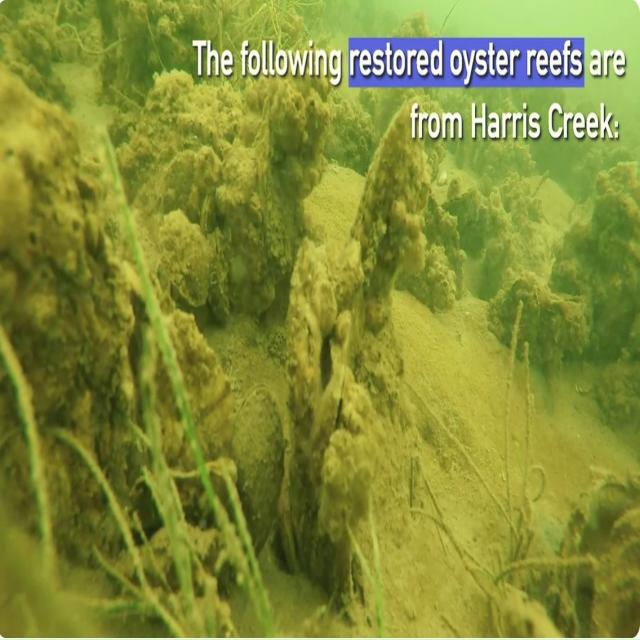Oyster- Indeterminate: (0, 87, 130, 521), (352, 94, 433, 339), (571, 145, 640, 372), (142, 288, 228, 468), (116, 509, 238, 601), (226, 378, 284, 556), (124, 450, 248, 531), (316, 432, 376, 569), (160, 208, 208, 318), (538, 279, 584, 379), (168, 102, 222, 169), (224, 212, 265, 286), (160, 140, 194, 224), (152, 3, 188, 70), (7, 43, 45, 89), (21, 23, 58, 63), (255, 273, 282, 318)
Oyster-Closed: (251, 97, 284, 219), (204, 222, 233, 318)
Oyster-Open: (267, 235, 361, 555), (558, 453, 640, 640), (313, 372, 357, 505), (498, 274, 544, 363), (429, 178, 486, 228), (46, 23, 90, 60), (104, 106, 133, 148), (198, 179, 218, 236)
